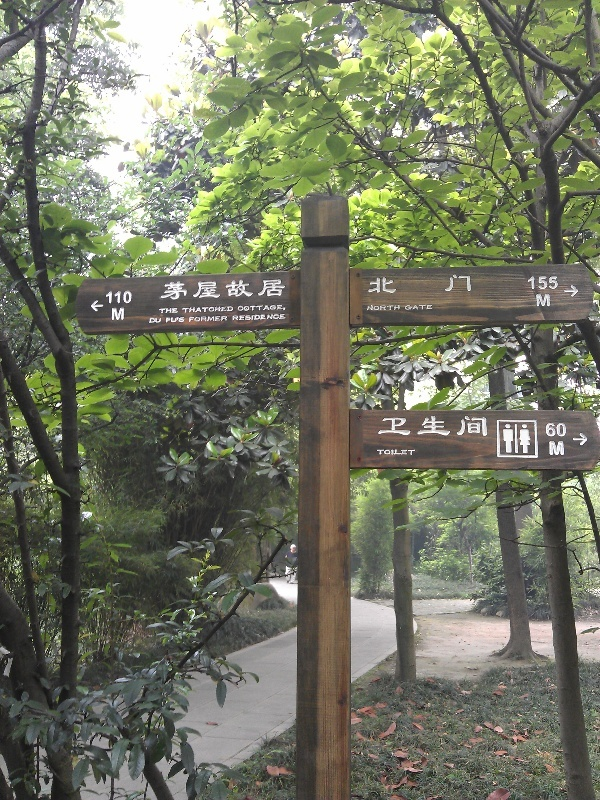text: (161, 277, 176, 301), (177, 277, 192, 301), (193, 277, 208, 301), (209, 277, 224, 301), (225, 277, 240, 301), (241, 277, 256, 301), (257, 277, 272, 301), (385, 415, 400, 437), (401, 415, 416, 437), (417, 415, 432, 437), (433, 415, 448, 437), (449, 415, 464, 437), (465, 415, 480, 437), (369, 274, 384, 295), (385, 274, 400, 295), (401, 274, 416, 295), (417, 274, 432, 295), (433, 274, 448, 295), (449, 274, 464, 295), (273, 277, 286, 301), (529, 275, 544, 291), (545, 422, 560, 438), (113, 290, 128, 306), (545, 275, 559, 291), (113, 307, 125, 322), (481, 415, 489, 437), (549, 441, 560, 457), (465, 274, 473, 295), (385, 304, 401, 313), (535, 293, 544, 309), (369, 304, 384, 313), (193, 305, 208, 314), (209, 305, 224, 314), (241, 304, 256, 313), (257, 304, 272, 313), (378, 415, 384, 437), (273, 304, 287, 313), (161, 307, 176, 315), (241, 314, 256, 322), (257, 314, 272, 322), (105, 290, 112, 306), (545, 293, 552, 309), (273, 314, 287, 322), (385, 449, 400, 456), (401, 449, 416, 456), (193, 316, 208, 323), (209, 316, 224, 323), (561, 422, 567, 438), (148, 317, 160, 325), (417, 305, 432, 311), (182, 305, 192, 314), (225, 305, 235, 314), (166, 316, 176, 324), (177, 316, 186, 324), (405, 305, 416, 311), (129, 290, 133, 306), (561, 441, 565, 457), (232, 314, 240, 322), (376, 449, 384, 456), (188, 316, 192, 323), (237, 304, 240, 313), (367, 274, 368, 295), (225, 316, 228, 323), (366, 304, 368, 313), (527, 275, 528, 291), (158, 307, 160, 315), (177, 307, 178, 315), (161, 317, 162, 325), (433, 305, 434, 311)
